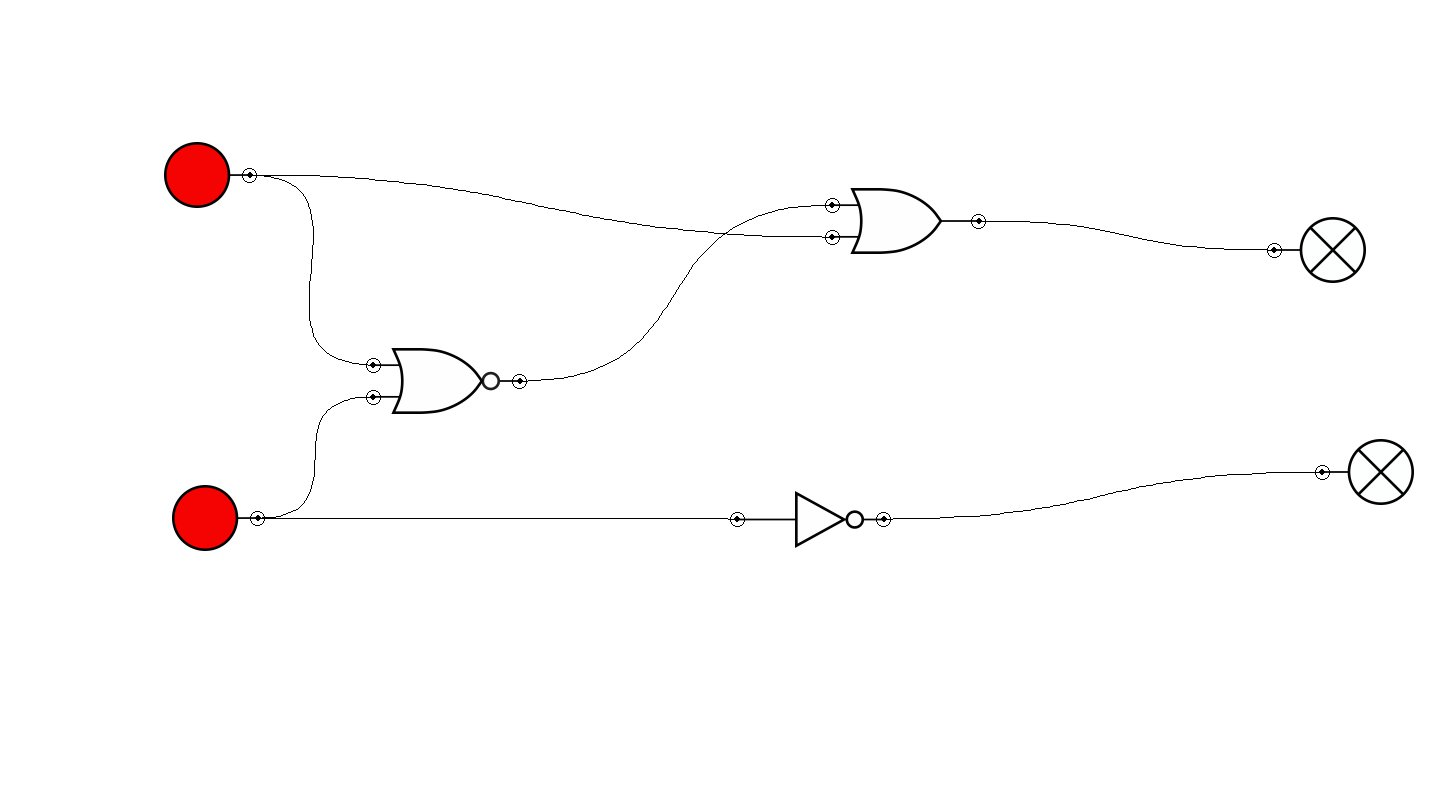bulb: (1267, 217, 1366, 283), (1315, 439, 1414, 505)
nor: (366, 348, 527, 414)
not: (730, 491, 891, 548)
or: (825, 188, 986, 254)
switch_False: (164, 142, 257, 208), (172, 485, 265, 551)
